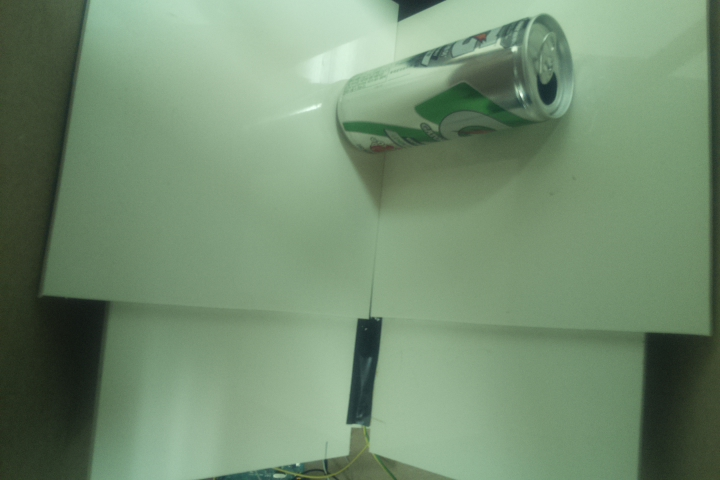can: (332, 12, 578, 158)
